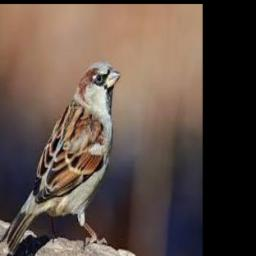Sparrow: (7, 61, 120, 256)
